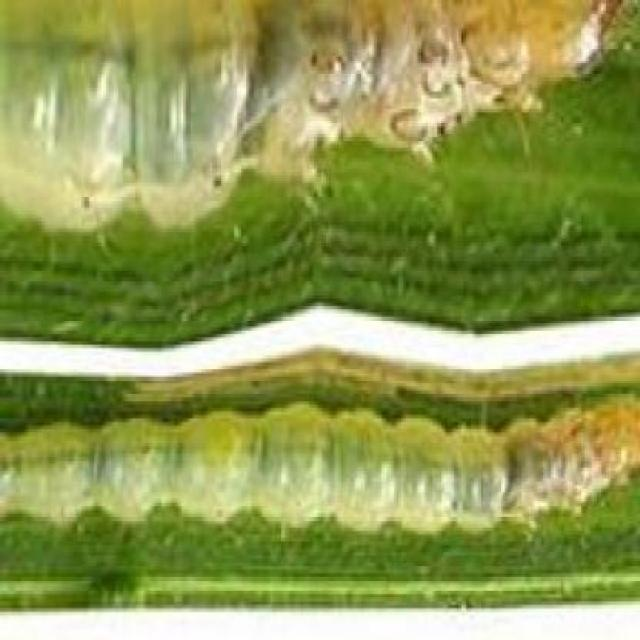leaf-folder: (0, 0, 603, 232), (34, 354, 621, 561)
